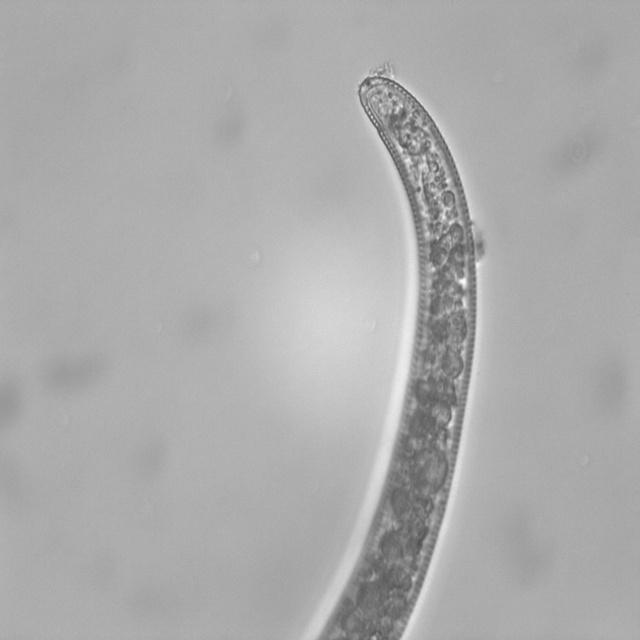Helicotylenchus: (339, 67, 506, 398)
